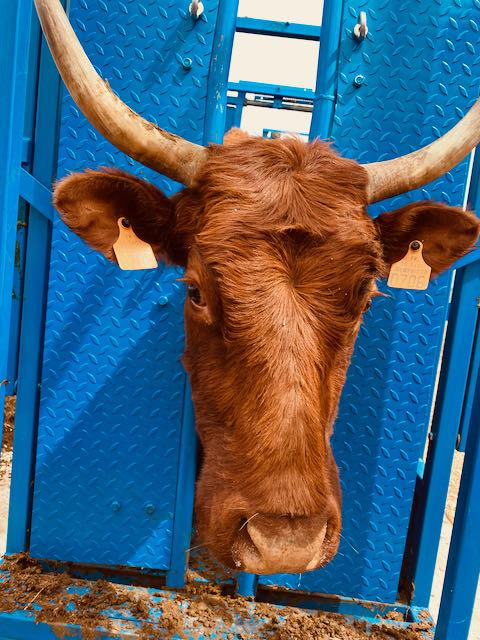muzzles: (225, 506, 338, 575)
